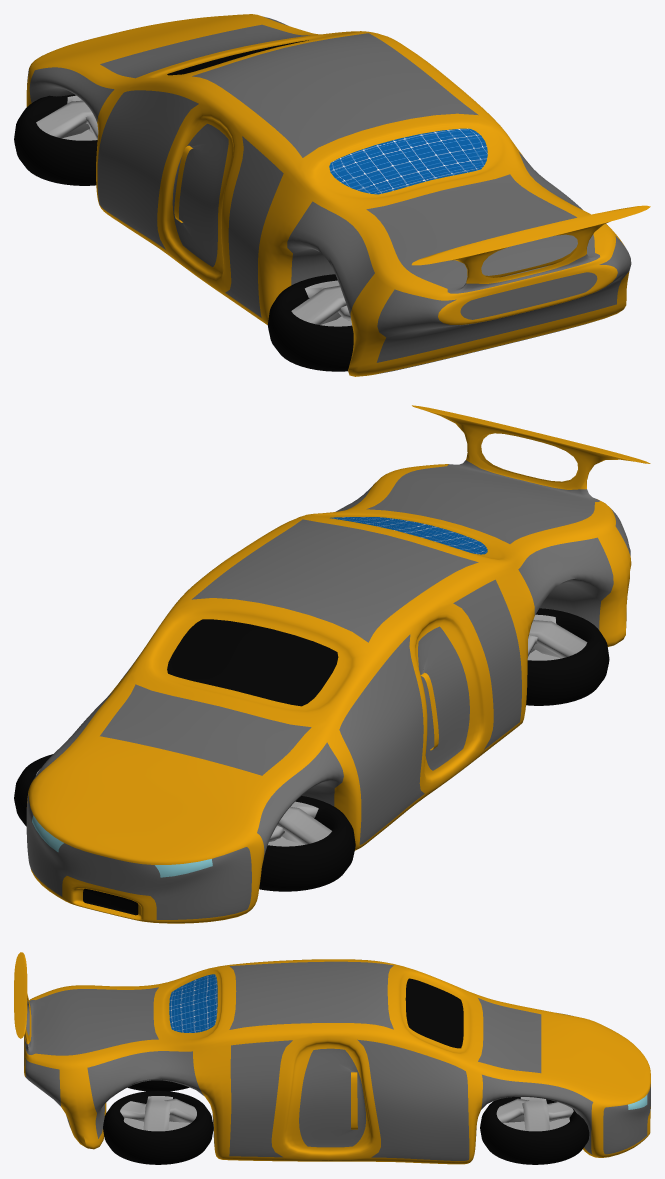
The model's file is Deco_Carro2.fbx.
3 views of the same model, one above another, from view 1: azimuth 30°, elevation 25°; view 2: azimuth 150°, elevation 25°; view 3: azimuth 270°, elevation 25° (orthographic). The views are drawn at different scales.
Visible parts, largest first — view 1: Cube, Torus; view 2: Cube, Torus; view 3: Cube, Torus.
Part boxes in pixels (x1,y1,x2,y2): Cube: (26,14,650,376); Torus: (14,94,353,371); Cube: (26,405,650,923); Torus: (14,608,609,891); Cube: (14,952,650,1164); Torus: (103,1080,589,1164).
Size of the model in its own units: 99.28 by 229 by 54.14.
Materials: 7 (1 with a texture image).
